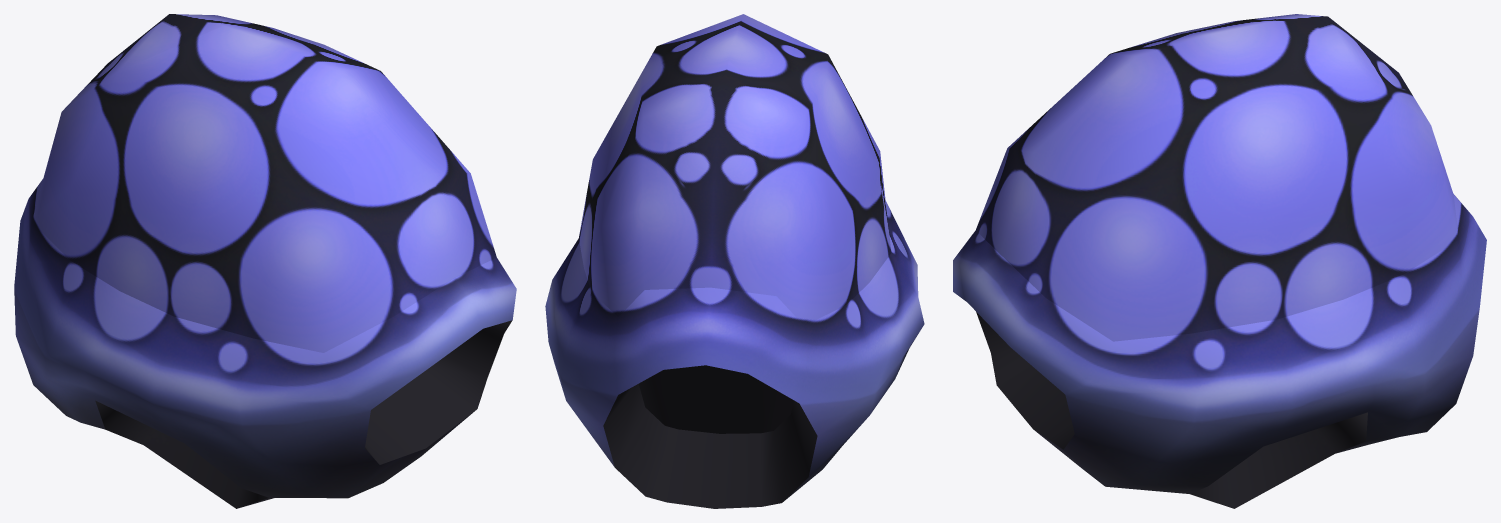
Rendered from Bomber_Shell_MSH (1).fbx.
The picture shows the model from 3 angles, left to right: view 1: azimuth 30°, elevation 25°; view 2: azimuth 150°, elevation 25°; view 3: azimuth 270°, elevation 25°; orthographic projection. The views are drawn at different scales.
Parts seen in each view (by area): view 1: shell; view 2: shell; view 3: shell.
Part boxes in pixels (x1,y1,x2,y2): shell: [14, 14, 516, 508]; shell: [545, 14, 924, 508]; shell: [953, 14, 1486, 508].
Size of the model in its own units: 1.71 by 2.04 by 2.15.
